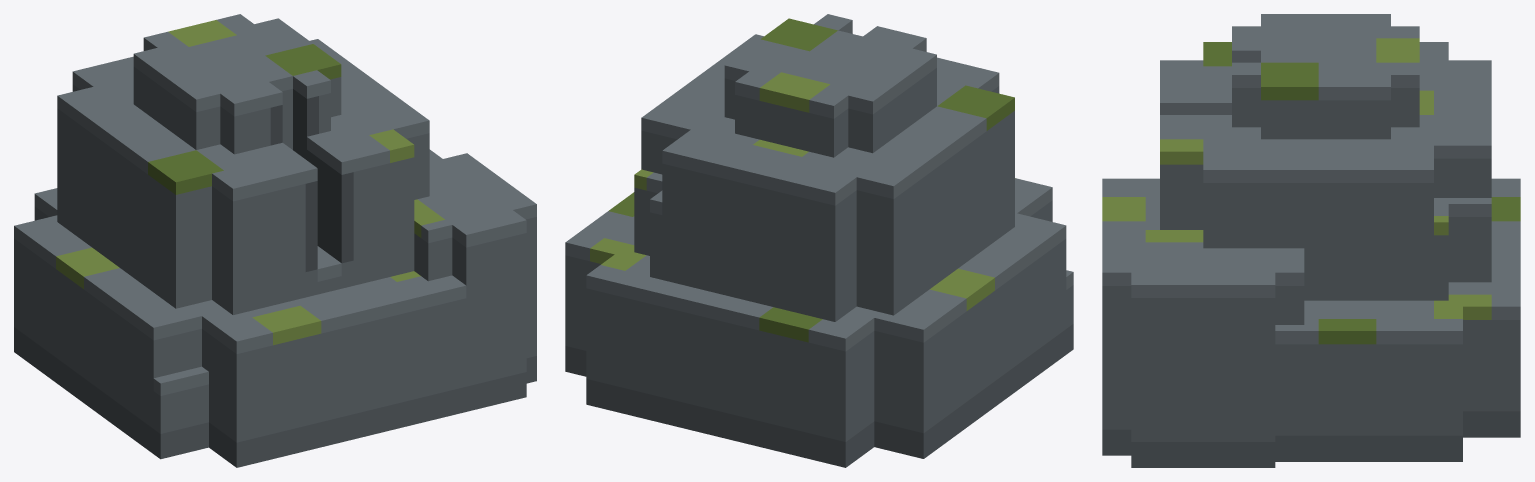
File: boulder_1.glb
The picture shows the model from 3 angles, left to right: view 1: azimuth 30°, elevation 25°; view 2: azimuth 150°, elevation 25°; view 3: azimuth 270°, elevation 25°; orthographic projection. The views are drawn at different scales.
Visible parts, largest first — view 1: VoxelVisual; view 2: VoxelVisual; view 3: VoxelVisual.
Boxes of the visible parts, <box> form: VoxelVisual: <box>14,14,536,467</box>; VoxelVisual: <box>565,14,1073,467</box>; VoxelVisual: <box>1102,14,1520,467</box>.
Size of what is drawn, in the model's own units: 1.88 by 1.5 by 1.81.
